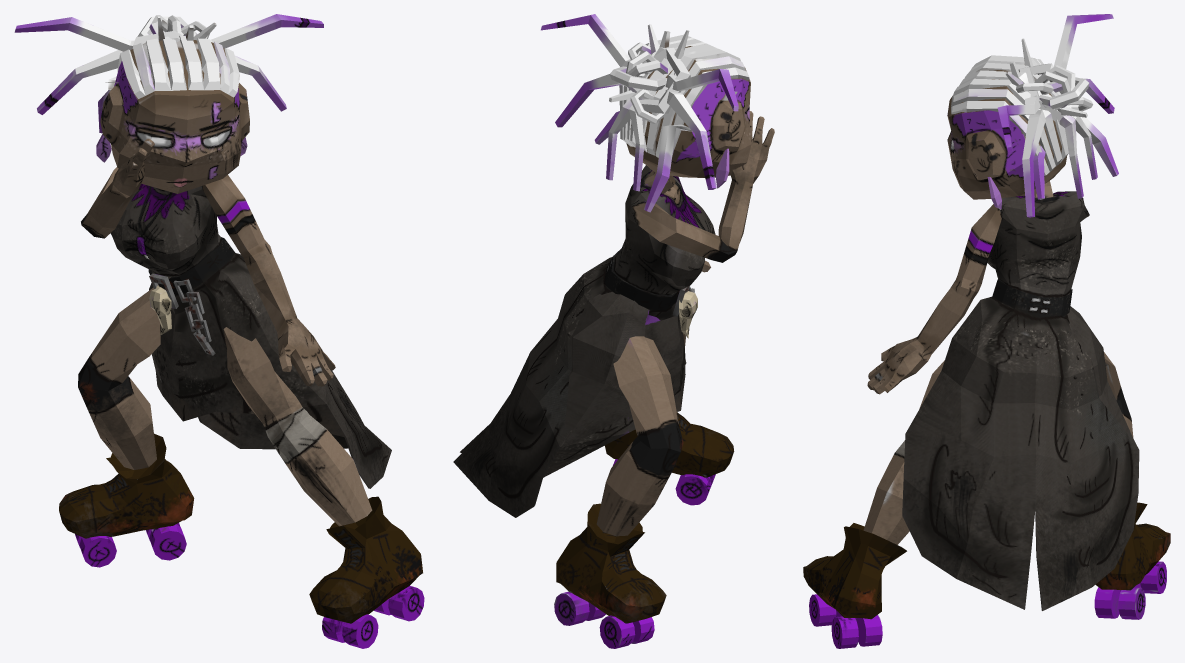
File: bruja_000074.obj
The picture shows the model from 3 angles, left to right: view 1: azimuth 30°, elevation 25°; view 2: azimuth 150°, elevation 25°; view 3: azimuth 270°, elevation 25°; orthographic projection. The views are drawn at different scales.
Visible parts, largest first — view 1: Bruja_Plane.001; view 2: Bruja_Plane.001; view 3: Bruja_Plane.001.
Boxes of the visible parts, x1,y1,x2,y2 form: Bruja_Plane.001: (14,14,424,648); Bruja_Plane.001: (453,14,774,648); Bruja_Plane.001: (803,14,1170,648).
Size of the model in its own units: 9.12 by 15.42 by 9.26.
